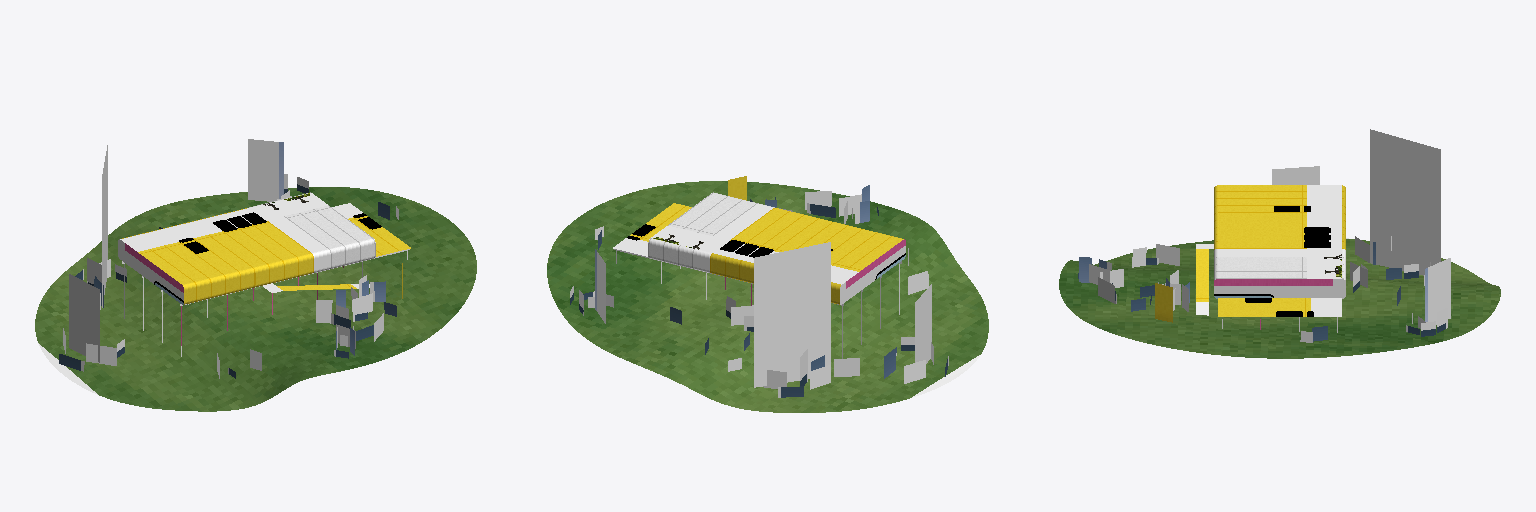
3 renders of one model, left to right at view 1: azimuth 30°, elevation 25°; view 2: azimuth 150°, elevation 25°; view 3: azimuth 270°, elevation 25°, orthographic.
Bounding box in the file's own units: 2400 × 884 × 2400.
Materials: 1 (1 with a texture image).